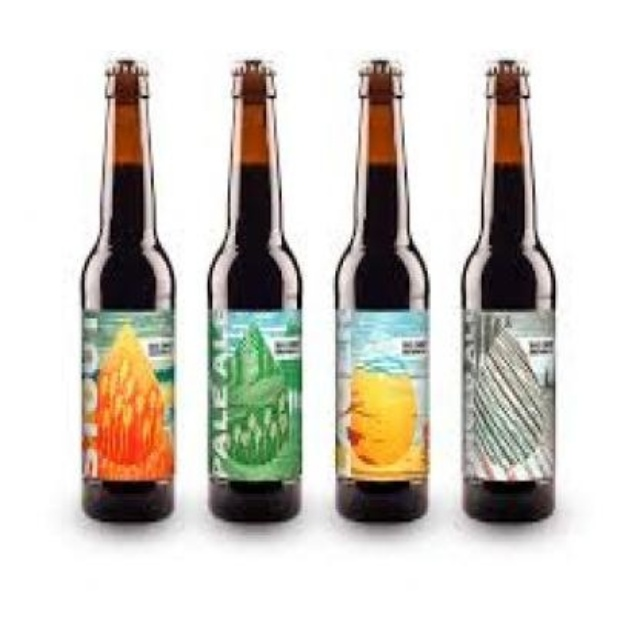trash: (335, 60, 428, 520), (463, 60, 554, 520), (209, 60, 300, 520), (82, 60, 172, 520)
